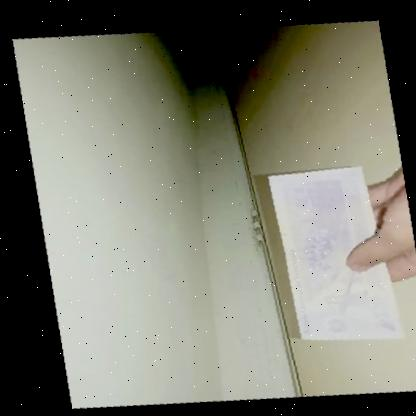two_hundred-back-vef: (254, 153, 409, 347)
